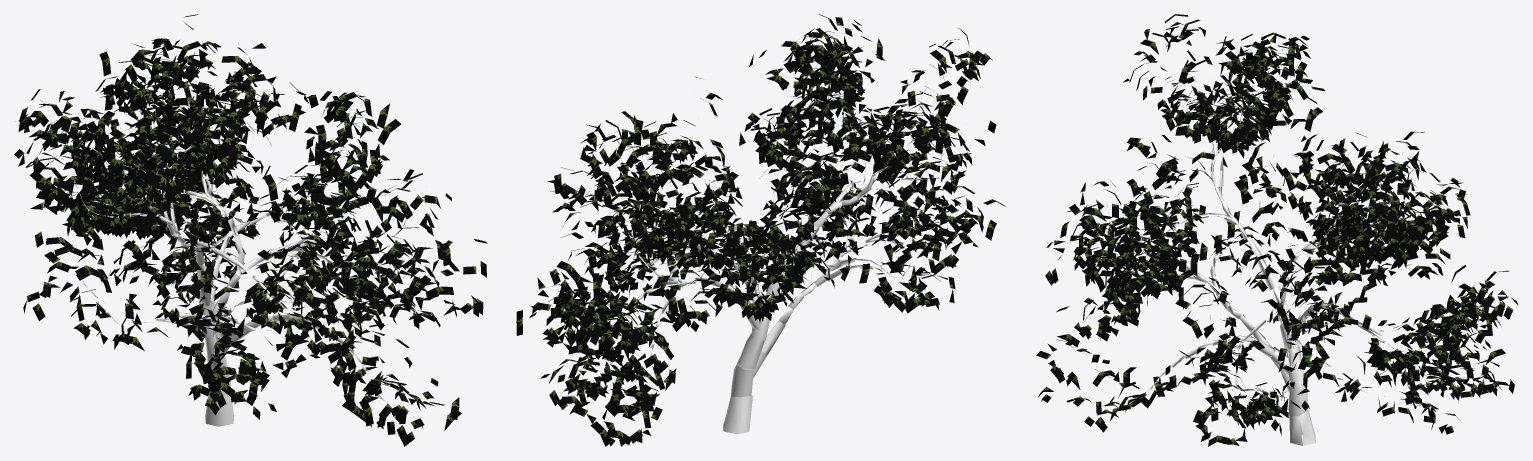
File: oaks_feuilles_l1.glb
The picture shows the model from 3 angles, left to right: view 1: azimuth 30°, elevation 25°; view 2: azimuth 150°, elevation 25°; view 3: azimuth 270°, elevation 25°; orthographic projection. The views are drawn at different scales.
Parts seen in each view (by area): view 1: foliage.001, structure.001; view 2: foliage.001, structure.001; view 3: foliage.001, structure.001.
Part boxes in pixels (box(x1,y1,x2,y2)): foliage.001: box(14, 14, 487, 446); structure.001: box(49, 42, 422, 426); foliage.001: box(516, 14, 1006, 446); structure.001: box(577, 56, 963, 434); foliage.001: box(1036, 14, 1518, 446); structure.001: box(1057, 36, 1478, 445).
Bounding box in the file's own units: 112 × 98.99 × 119.
2 materials, 1 textured.
